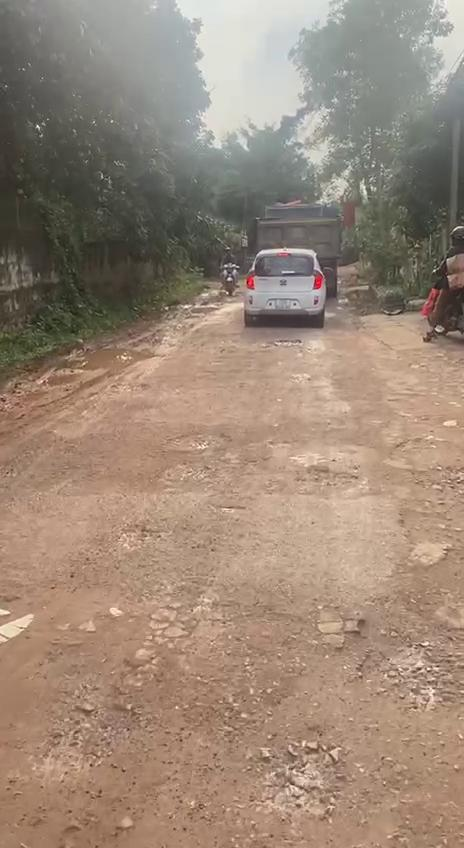pothole: (250, 733, 420, 848), (371, 432, 464, 609), (35, 655, 143, 781), (348, 608, 464, 716), (158, 429, 235, 457), (294, 463, 362, 491), (118, 518, 163, 552), (270, 336, 303, 350)
